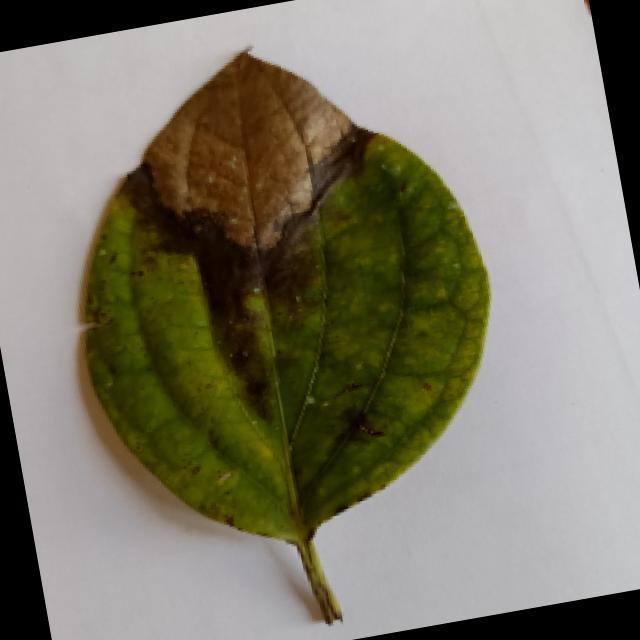footrot: (32, 11, 541, 640)
